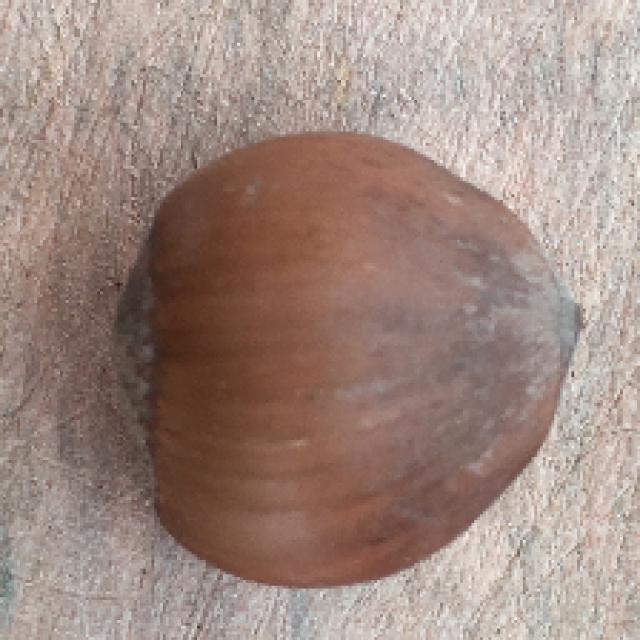DamagedHazelnut: (105, 130, 586, 589)
